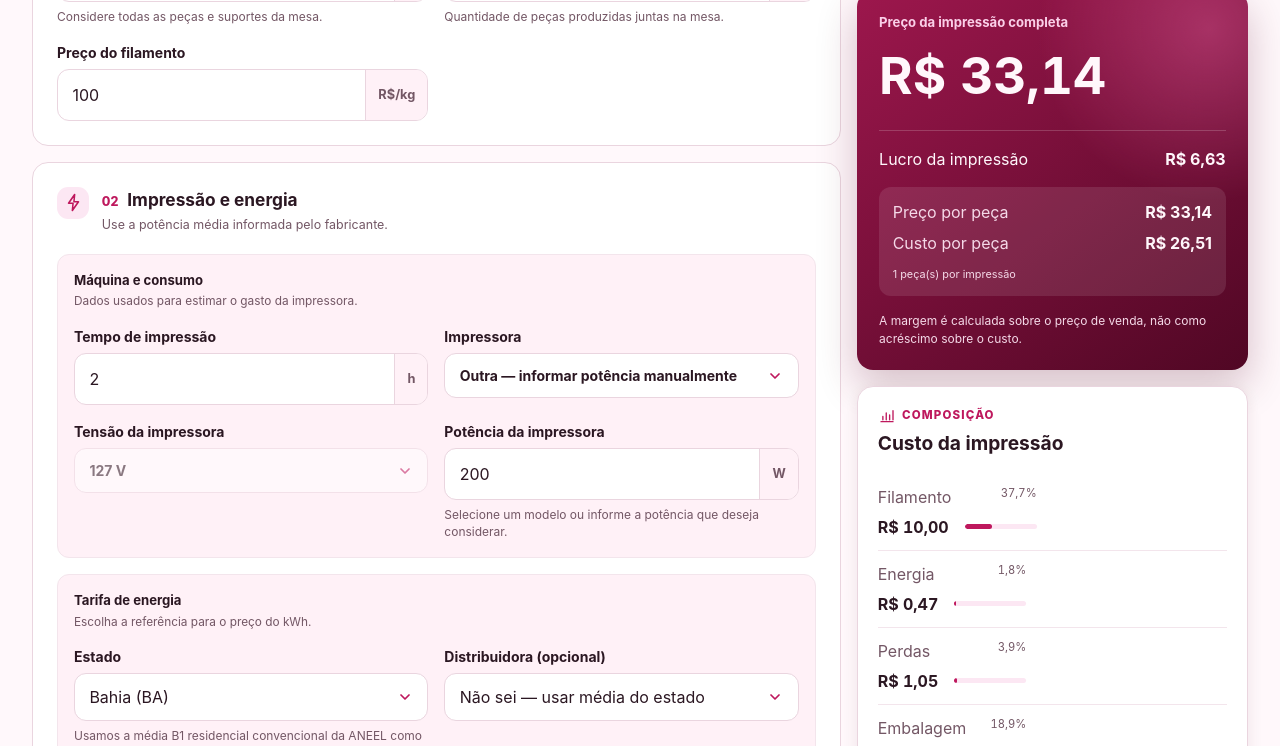
Scenario: CostCalculatorPage › preenche a potência oficial conforme impressora e tensão
(page scrolled)
Select "Bambu Lab A1" in the dropdown labelled "Impressora" at (621, 376), box x1=444 y1=353 x2=799 y2=398
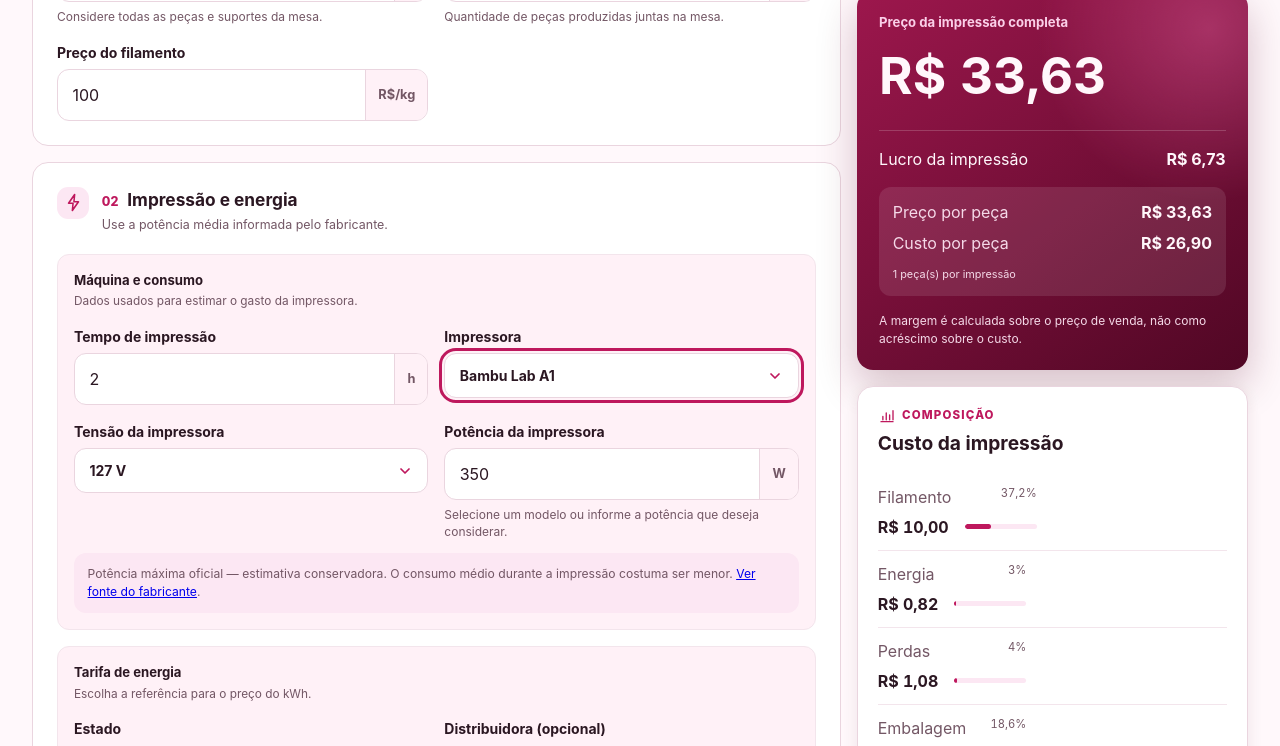
Expected: the field labelled "Potência da impressora" holds "350", x1=445 y1=449 x2=759 y2=499
Expected: the text "Potência máxima oficial — estimativa conservadora" is shown, x1=88 y1=566 x2=733 y2=581
Select "220 V" in the dropdown labelled "Tensão da impressora" at (251, 471), box x1=74 y1=448 x2=428 y2=493
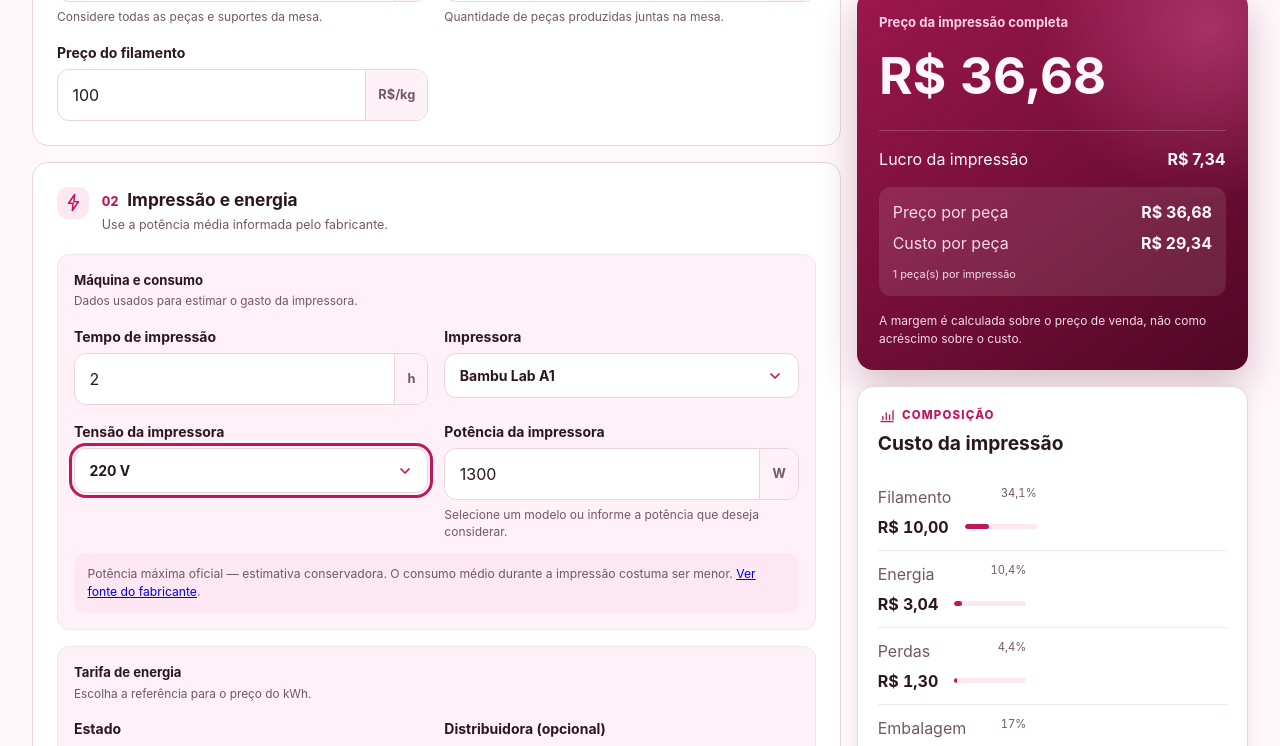
Expected: the field labelled "Potência da impressora" holds "1300", x1=445 y1=449 x2=759 y2=499
Select "Bambu Lab A1 mini" in the dropdown labelled "Impressora" at (621, 376), box x1=444 y1=353 x2=799 y2=398
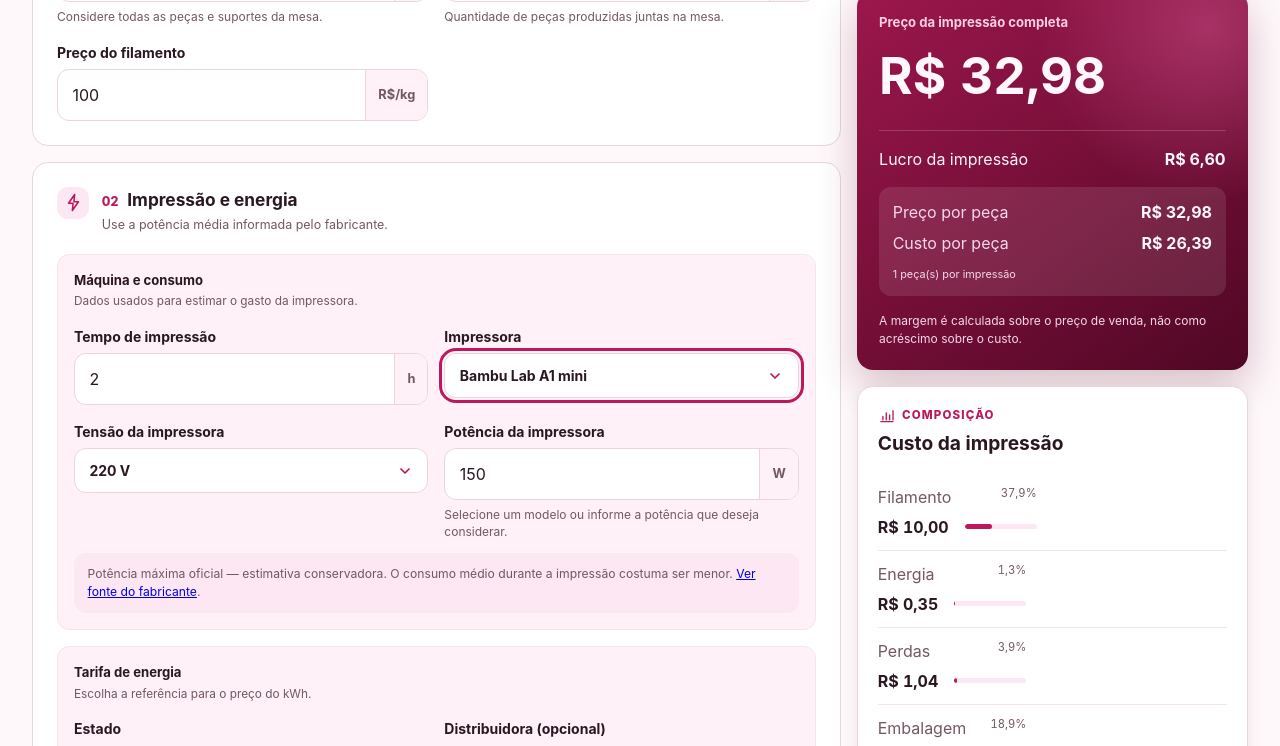
Expected: the field labelled "Potência da impressora" holds "150", x1=445 y1=449 x2=759 y2=499
